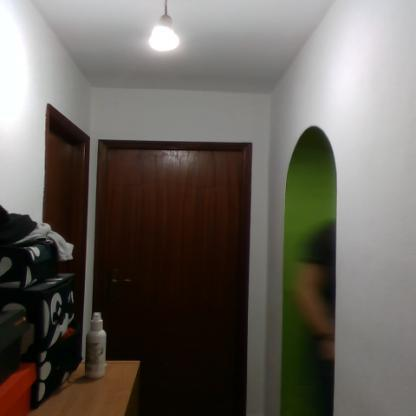door: (107, 150, 240, 415), (50, 126, 82, 333)
lever: (110, 278, 134, 286)
